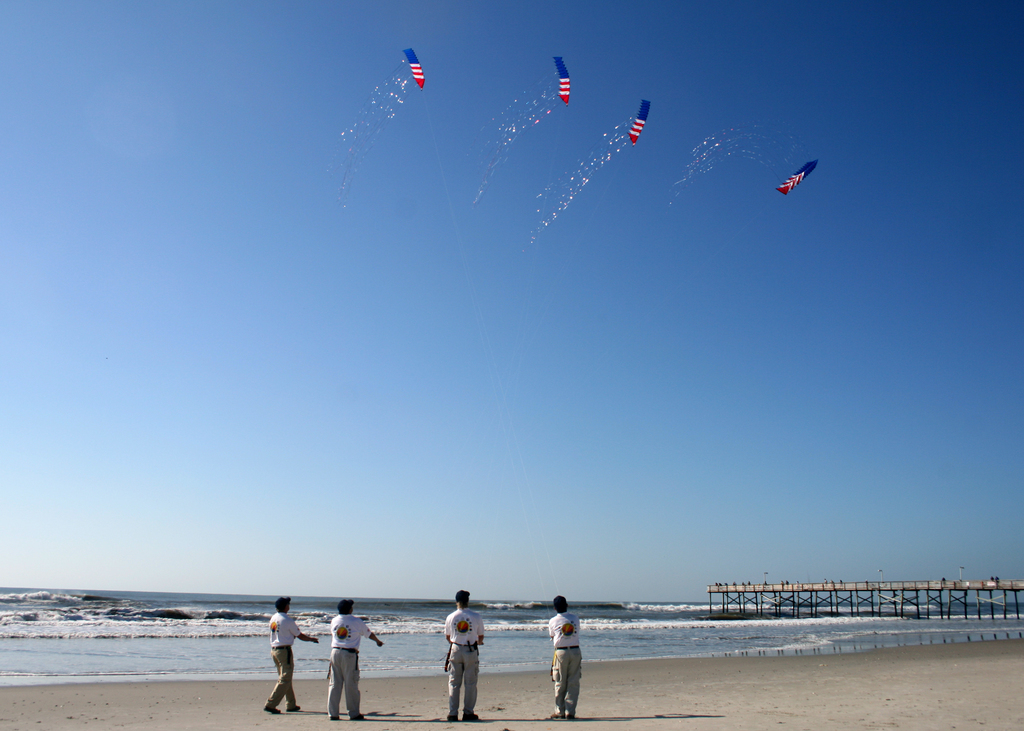kite: (377, 31, 451, 97), (534, 49, 588, 113), (766, 154, 827, 202), (625, 95, 656, 148)
